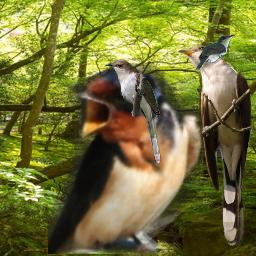Cuckoo: (177, 44, 253, 247), (104, 59, 161, 164), (195, 34, 236, 71)
Swallow: (48, 63, 205, 254)
